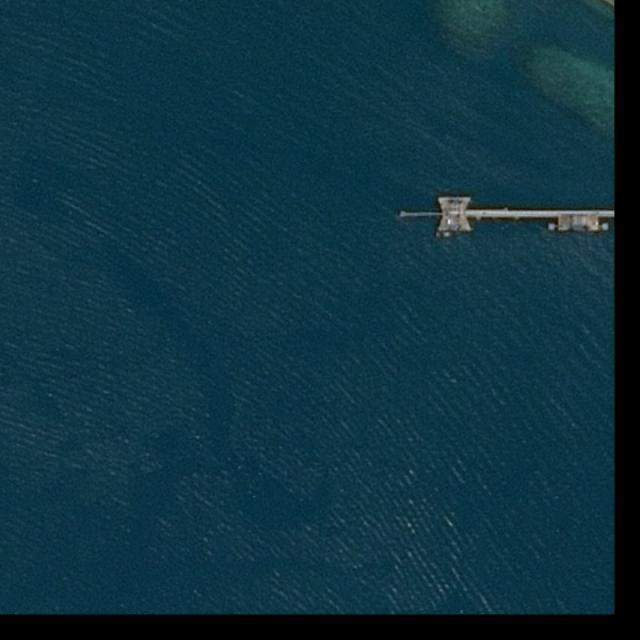ship: (435, 231, 454, 239)
